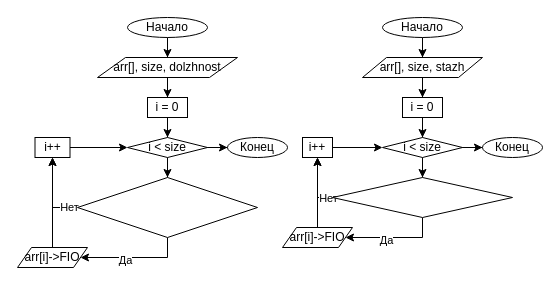
Image size: 560x285. Some labels were removed from this diagram. Each missing label, with the box of its shape:
arr[i]->stazh == stazh: (332, 176, 512, 218)
strcmp(arr[i]->dolzhnost, dolzhnost) == 0: (76, 176, 258, 238)
